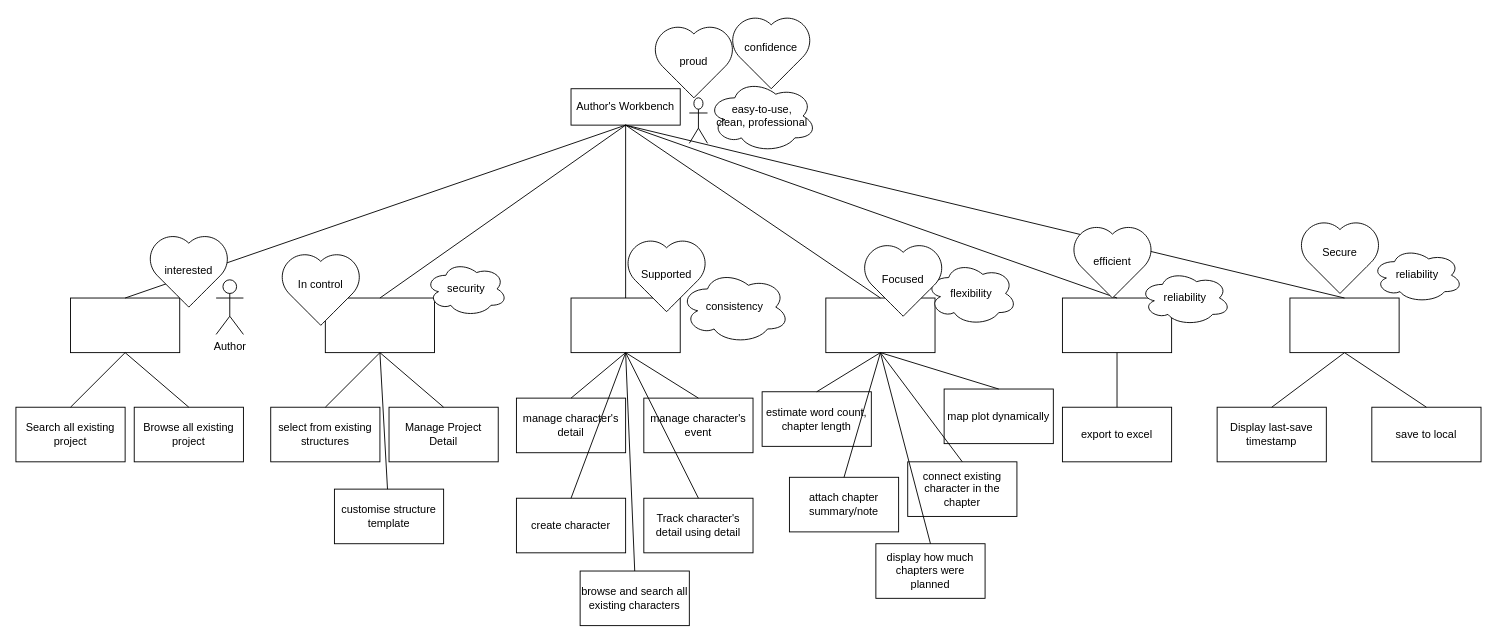
This 1497x642 diagram has some shape labels left out. The centre of each missing label's shape, as x and y in pixels:
"Auto-save and Data Reliability" belongs at point 1344,325.
"Browse and Search" belongs at point 125,325.
"Create and manage longer-term project" belongs at point 379,325.
"Developer" belongs at point 698,120.
"export" belongs at point 1117,325.
"Track Character" belongs at point 625,325.
"Track plot" belongs at point 880,325.
